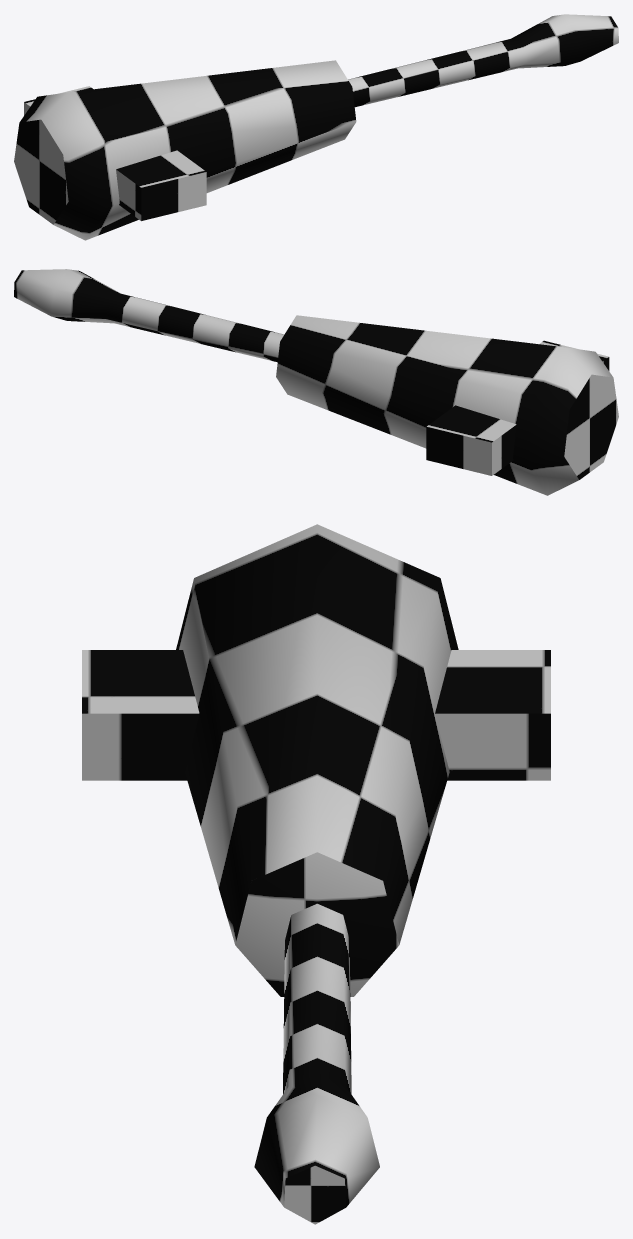
3 renders of one model, top to bottom at view 1: azimuth 30°, elevation 25°; view 2: azimuth 150°, elevation 25°; view 3: azimuth 270°, elevation 25°, orthographic. The views are drawn at different scales.
Visible parts, largest first — view 1: lf_4; view 2: lf_4; view 3: lf_4.
Part boxes in pixels (<box>): lf_4: <box>14,14,618,240</box>; lf_4: <box>14,269,618,495</box>; lf_4: <box>82,524,550,1224</box>.
Size of the model in its own units: 27.75 by 6.32 by 9.9.
1 material, 1 textured.
